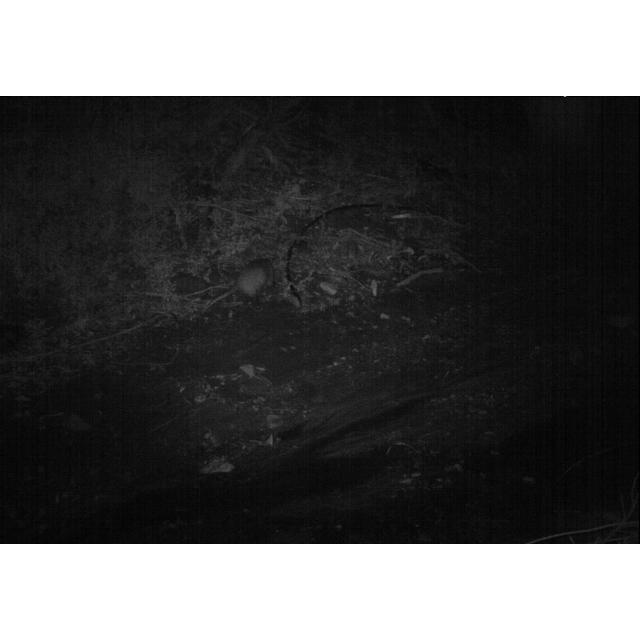animals: (208, 255, 282, 305)
